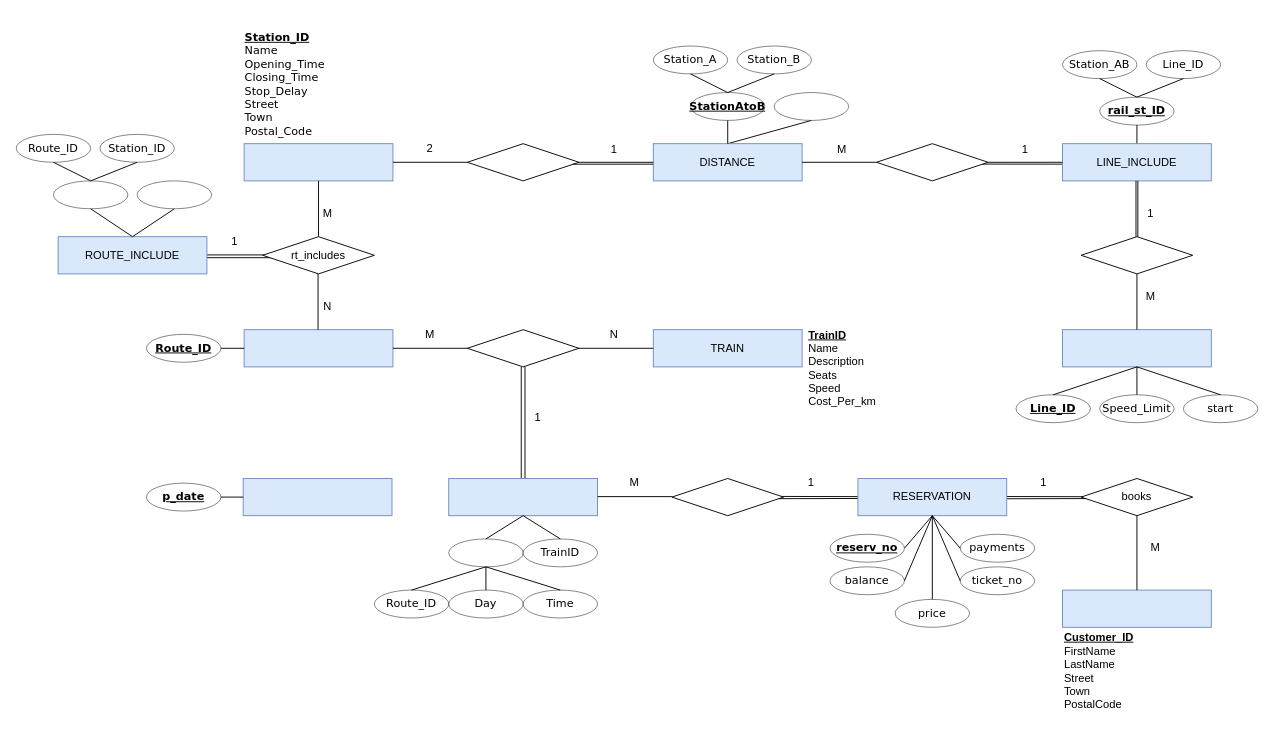
The diagram is 1274 pixels wide and 733 high, and some of its shapes have lost their labels. The shapes that lost their labels are listed below. From the top down, each one's box as (x1, y1, x2, y2) in pixels, then its label:
(773, 92, 849, 120): miles
(243, 143, 393, 181): STATION
(466, 143, 579, 181): has
(876, 143, 988, 181): consists_of
(53, 180, 128, 209): Rt_StationNo
(136, 180, 212, 209): isStop
(1080, 236, 1193, 274): ln_includes
(243, 329, 393, 367): ROUTE
(466, 329, 579, 367): requires
(1062, 329, 1211, 367): RAILLINE
(242, 478, 392, 516): CLOCK
(448, 478, 598, 516): SCHEDULE
(671, 478, 784, 516): references
(448, 538, 523, 567): RDT
(1062, 589, 1211, 627): CUSTOMER
